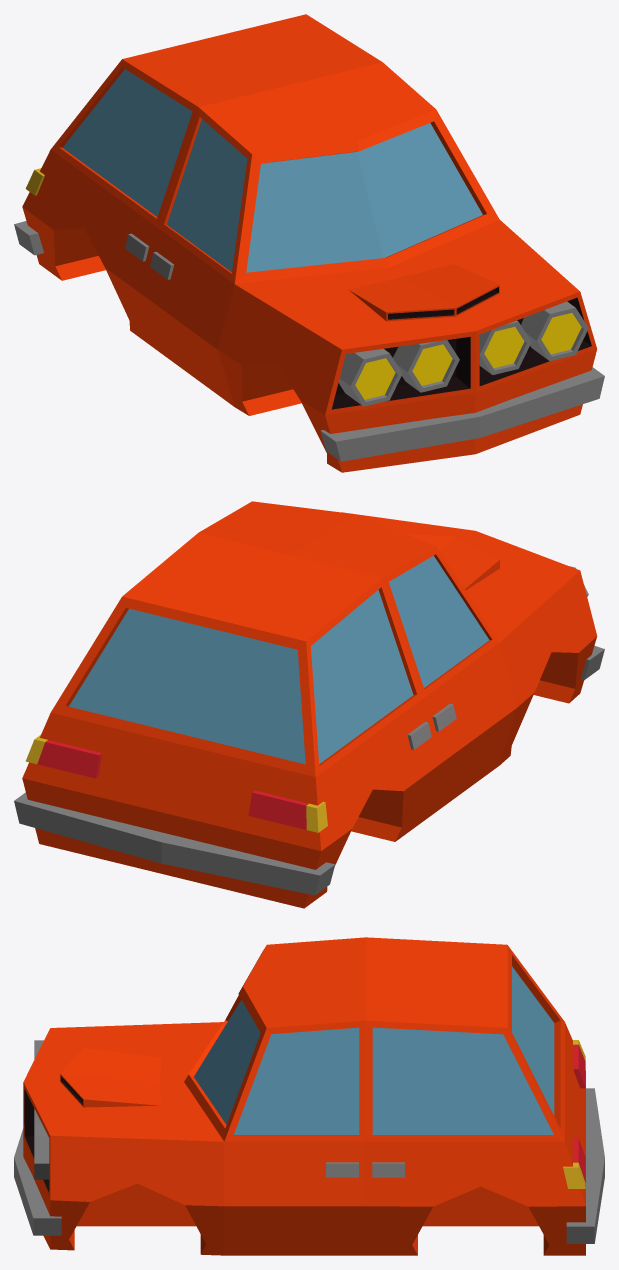
File: LowPaulCar2.fbx
The picture shows the model from 3 angles, top to bottom: view 1: azimuth 30°, elevation 25°; view 2: azimuth 150°, elevation 25°; view 3: azimuth 270°, elevation 25°; orthographic projection. The views are drawn at different scales.
Parts seen in each view (by area): view 1: Cube; view 2: Cube; view 3: Cube.
Part boxes in pixels (x1=…): Cube: x1=14, y1=14, x2=604, y2=472; Cube: x1=14, y1=501, x2=604, y2=908; Cube: x1=14, y1=937, x2=604, y2=1255.
Bounding box in the file's own units: 163 × 119 × 294.
